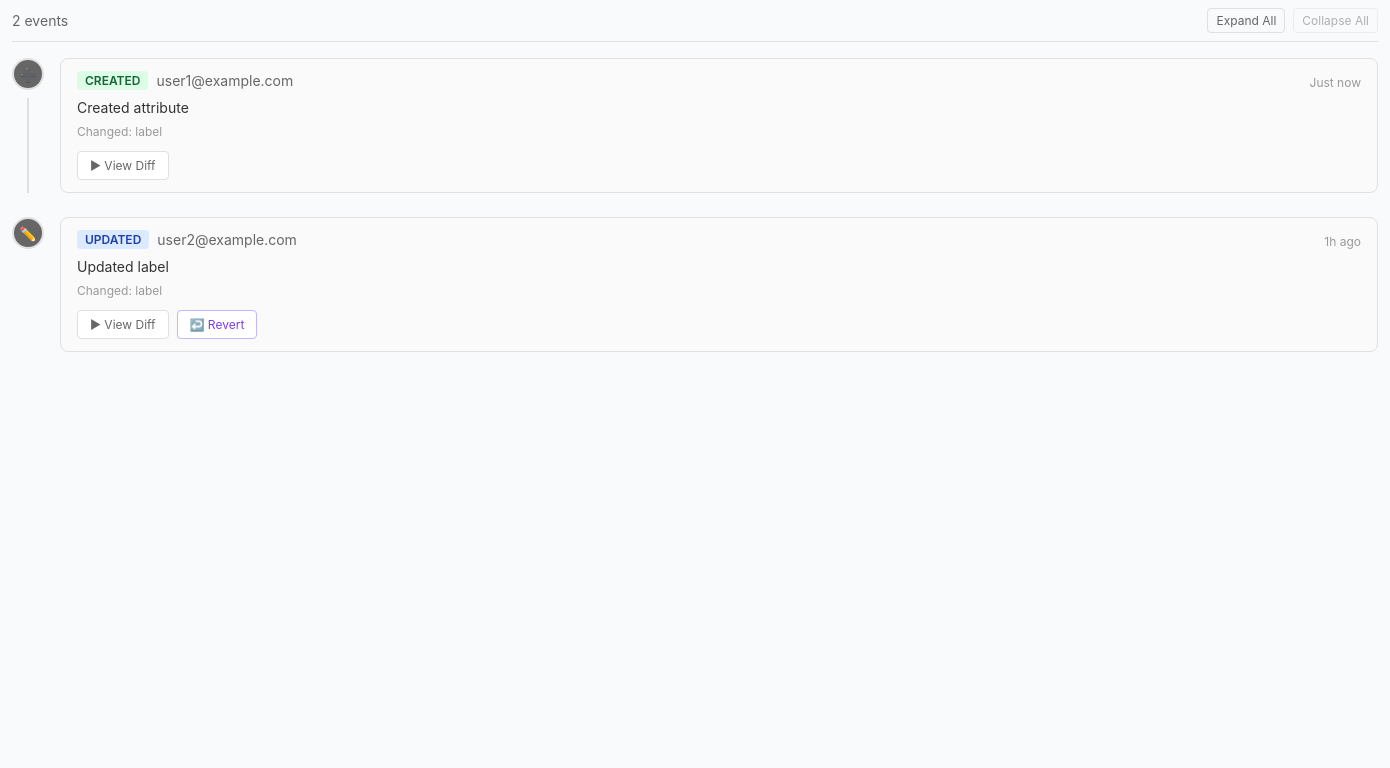
Scenario: AuditTimeline › should expand all events when Expand All clicked
Click the button "Expand All": (1246, 20) [1208,8,1285,33]
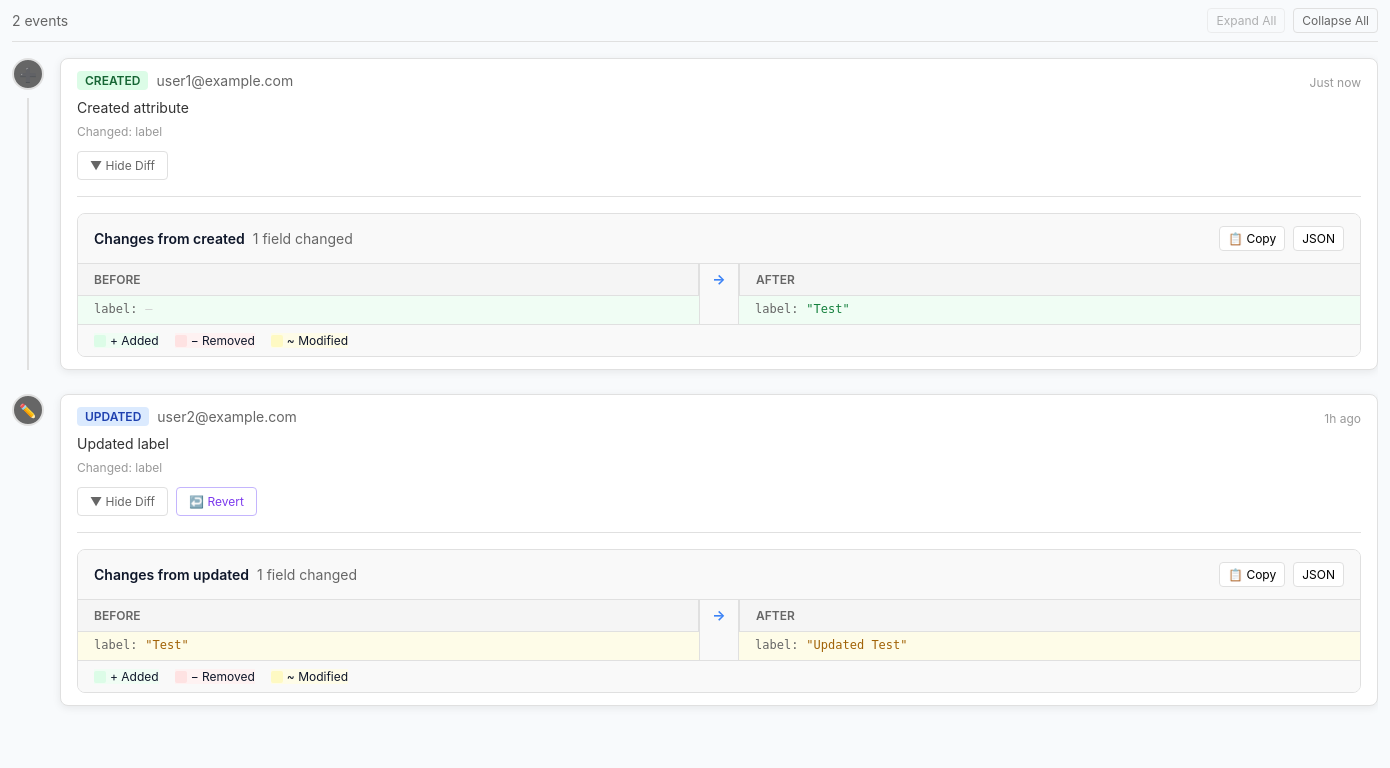
Result: the button "▼ Hide Diff" below "Created attribute" is shown at [77,151,168,180]
